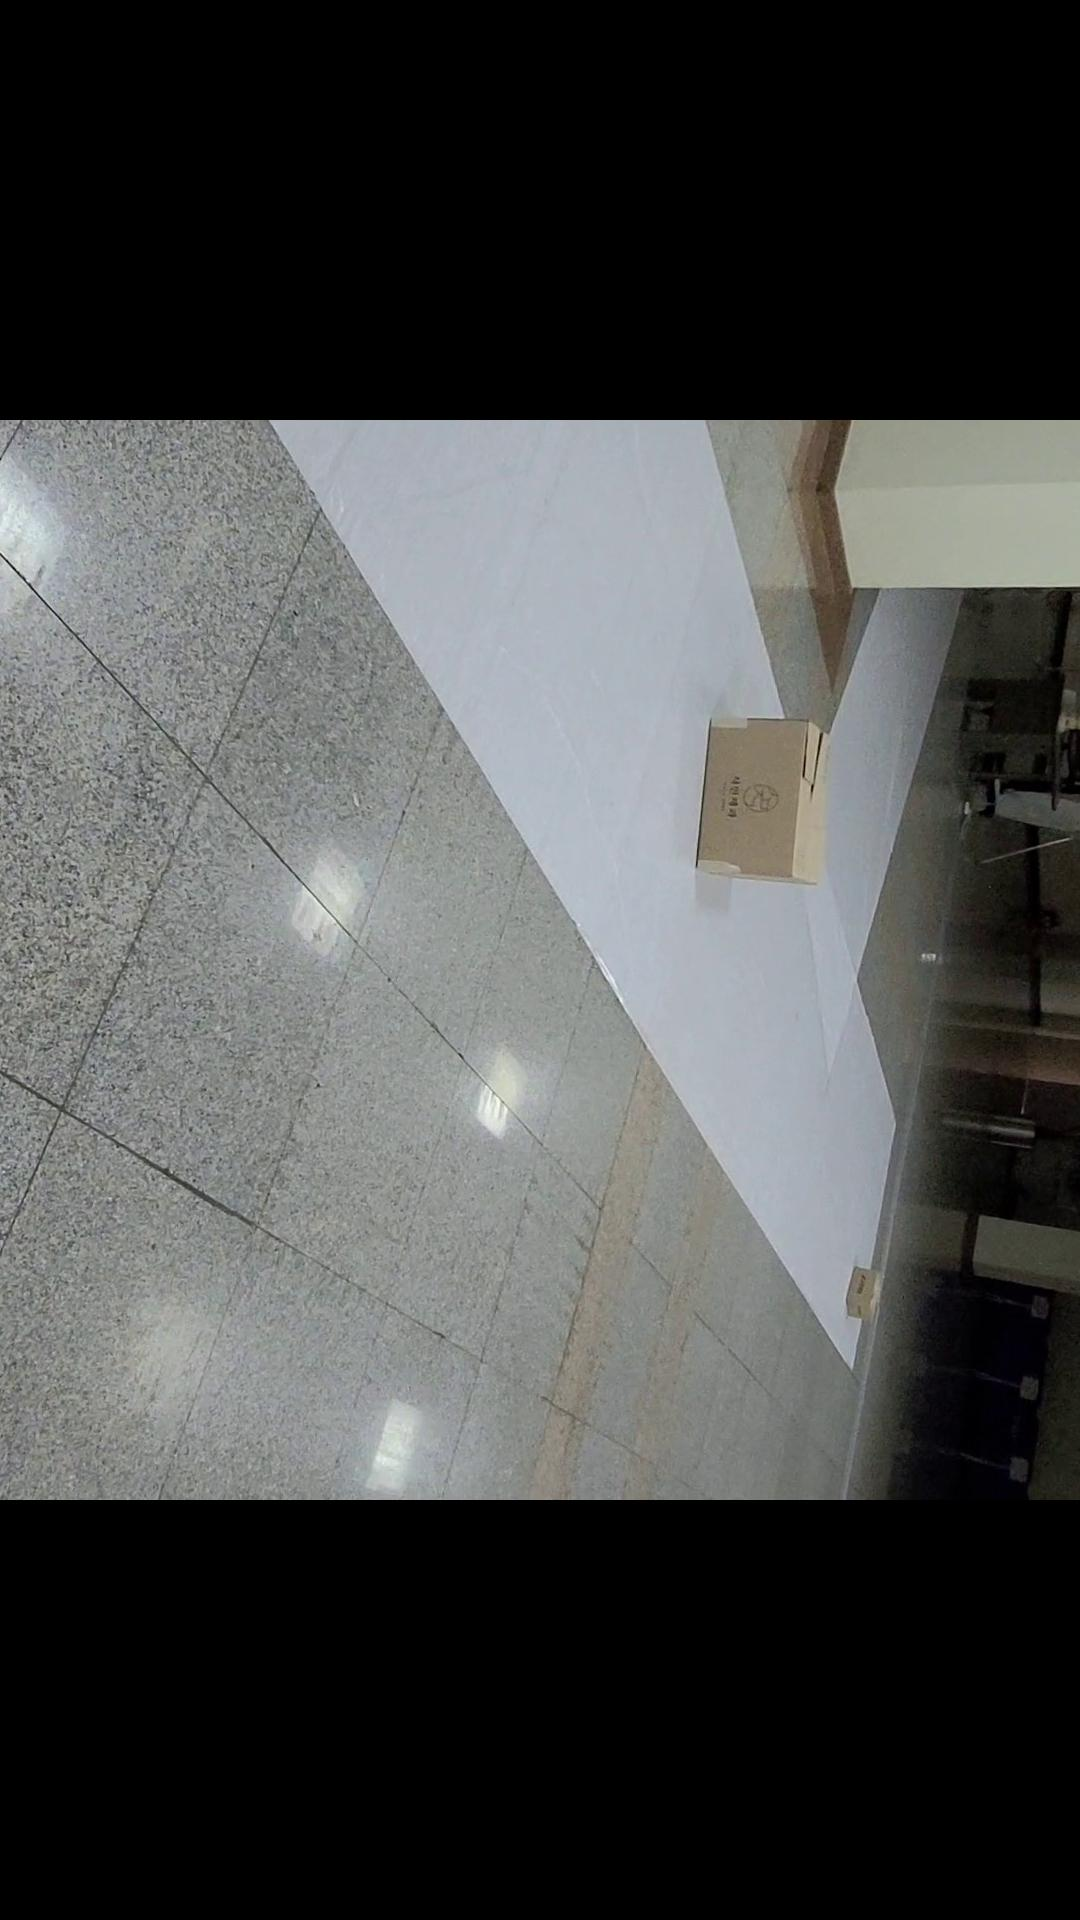Box: (661, 666, 851, 918), (823, 1238, 895, 1338)
